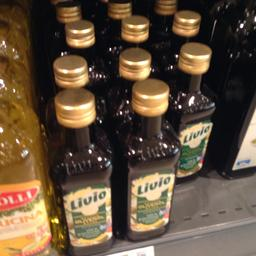oil: (45, 86, 120, 252), (118, 79, 184, 240), (170, 40, 215, 183)
